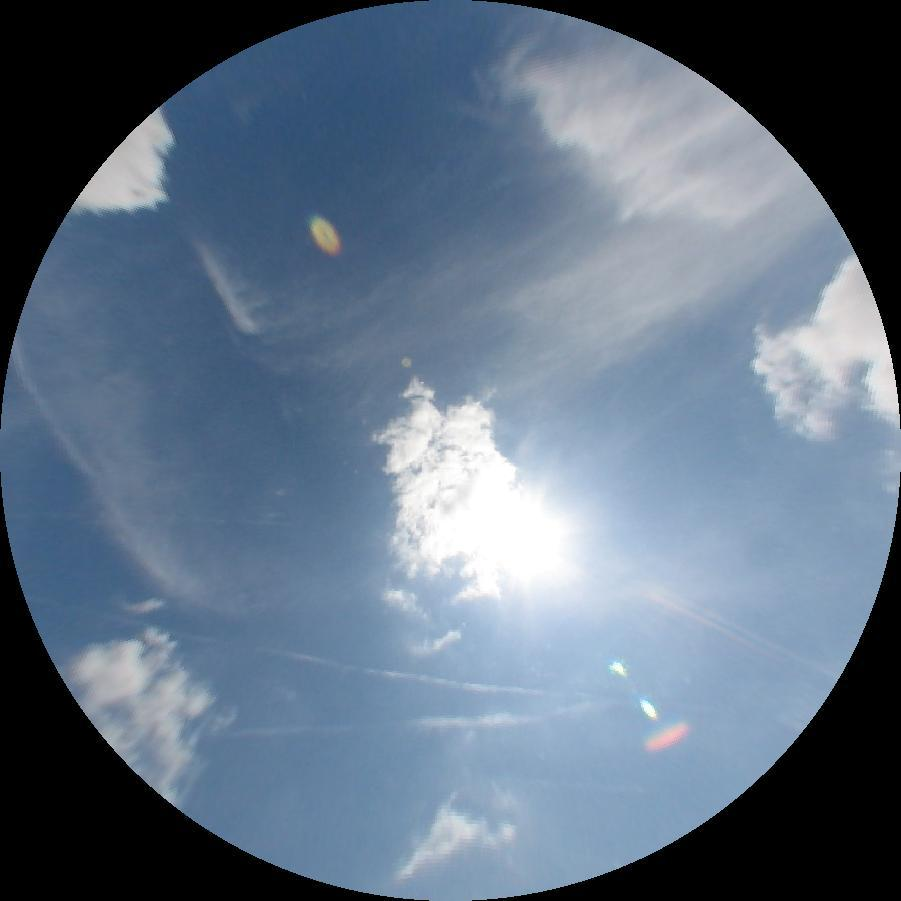contrail veryold: (104, 611, 546, 706), (225, 698, 618, 746)
sun: (470, 506, 556, 574)
